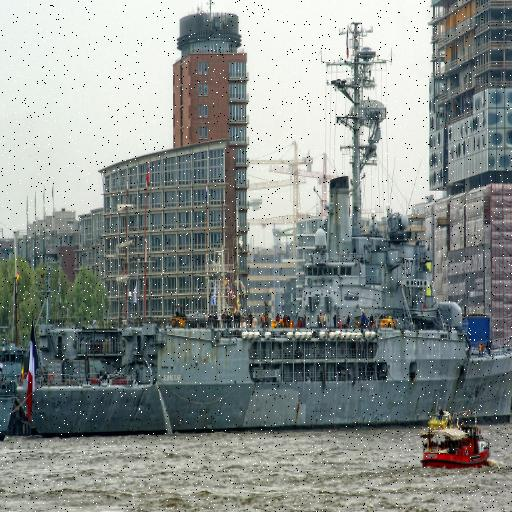Portanaves: (13, 169, 512, 444)
